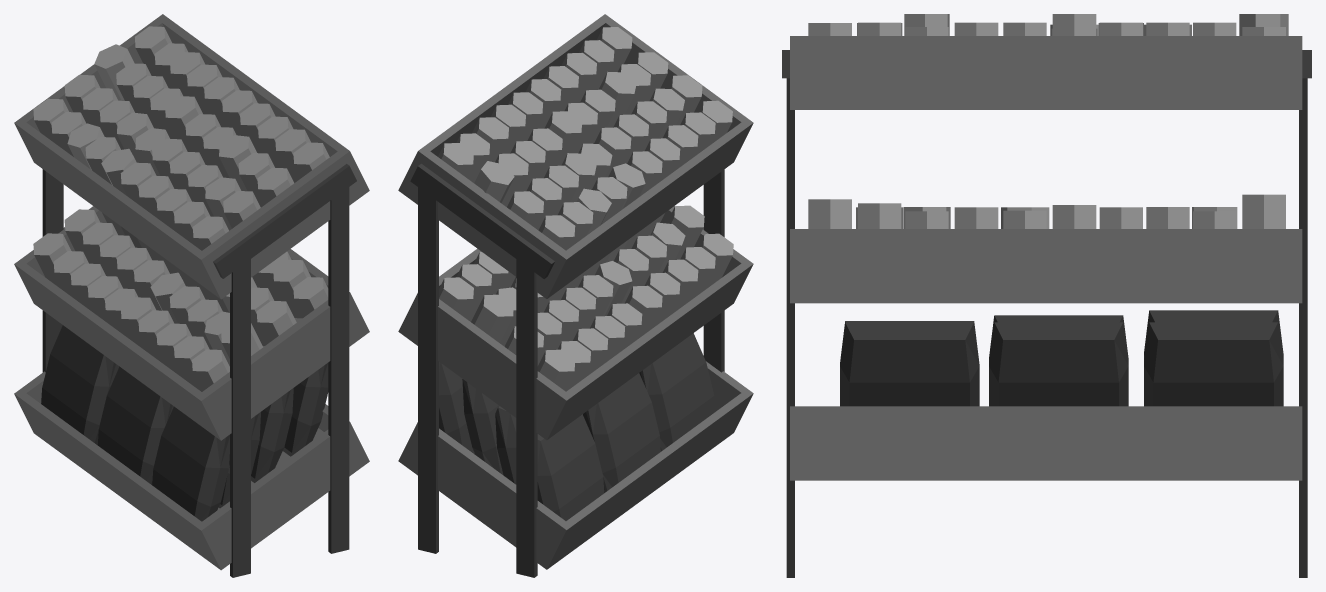
File: food_stack_B.FBX
3 views of the same model, side by side, from view 1: azimuth 30°, elevation 25°; view 2: azimuth 150°, elevation 25°; view 3: azimuth 270°, elevation 25° (orthographic). The views are drawn at different scales.
Parts seen in each view (by area): view 1: food_stack_B; view 2: food_stack_B; view 3: food_stack_B.
Boxes of the visible parts, x1,y1,x2,y2 form: food_stack_B: [14, 14, 369, 577]; food_stack_B: [398, 14, 753, 577]; food_stack_B: [782, 14, 1311, 577].
Bounding box in the file's own units: 40.85 × 92.04 × 81.29.
